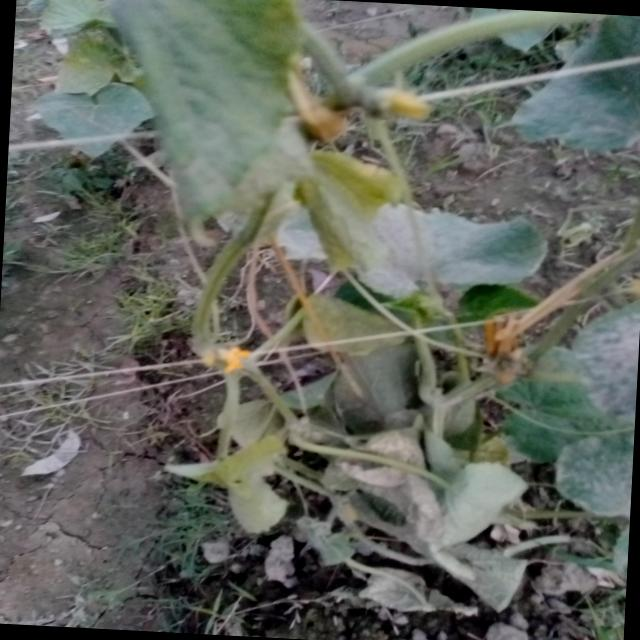cucumber_bacterial: (111, 0, 365, 250), (309, 428, 564, 592), (526, 276, 640, 517), (312, 186, 540, 292)
